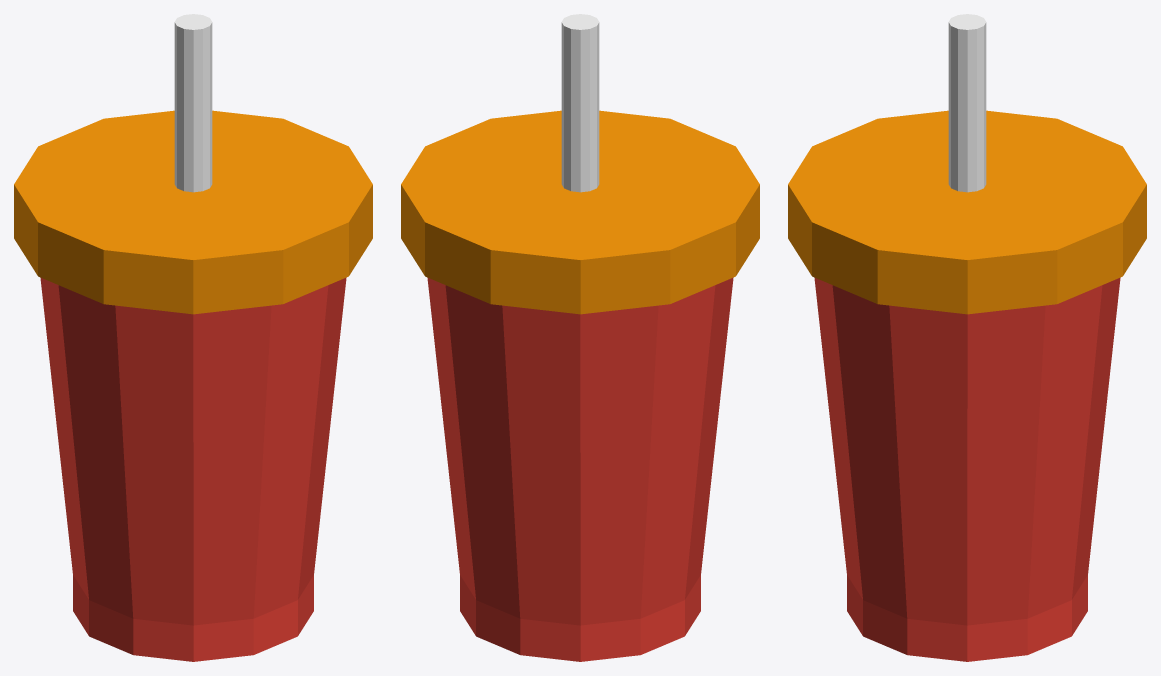
Rendered from SodaCup.fbx.
The picture shows the model from 3 angles, left to right: view 1: azimuth 30°, elevation 25°; view 2: azimuth 150°, elevation 25°; view 3: azimuth 270°, elevation 25°; orthographic projection.
Parts seen in each view (by area): view 1: mesh_1226758850, mesh_834503518, mesh_813479553; view 2: mesh_1226758850, mesh_834503518, mesh_813479553; view 3: mesh_1226758850, mesh_834503518, mesh_813479553.
Part boxes in pixels (x1,y1,x2,y2): mesh_1226758850: (40,277,346,661); mesh_834503518: (14,110,372,314); mesh_813479553: (174,14,212,192); mesh_1226758850: (427,277,733,661); mesh_834503518: (401,110,759,314); mesh_813479553: (561,14,599,192); mesh_1226758850: (814,277,1120,661); mesh_834503518: (788,110,1146,314); mesh_813479553: (948,14,986,192).
Size of the model in its own units: 28.43 by 51.48 by 28.43.
